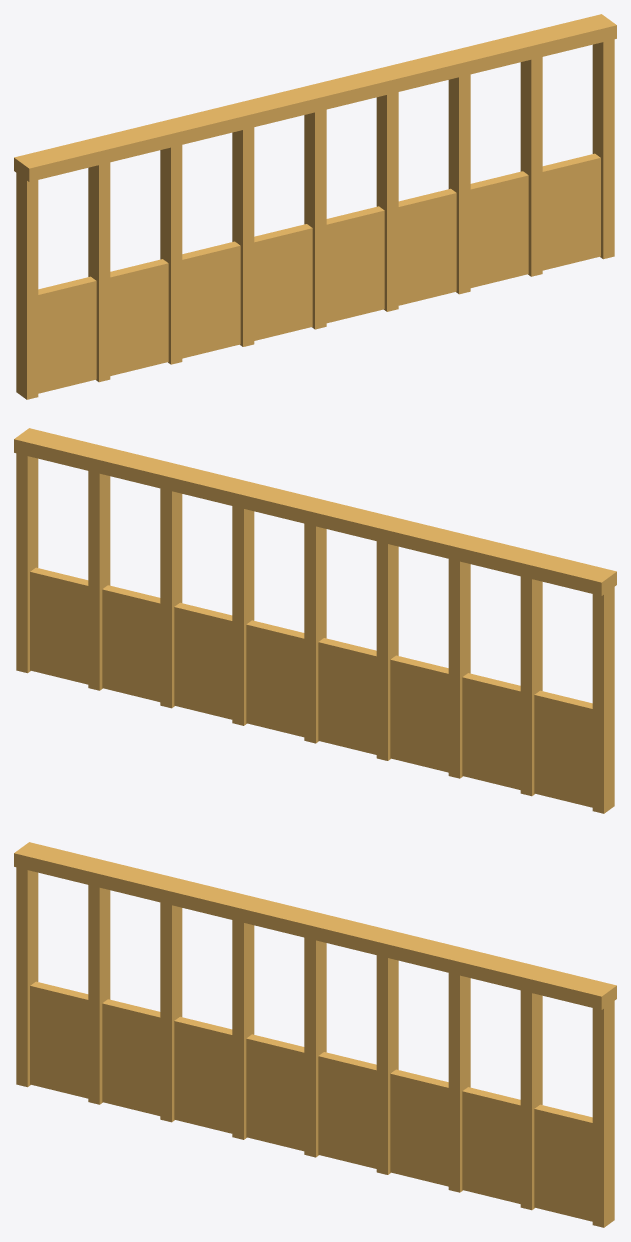
The model's file is Partitions_023.glb.
The picture shows the model from 3 angles, top to bottom: view 1: azimuth 30°, elevation 25°; view 2: azimuth 150°, elevation 25°; view 3: azimuth 330°, elevation 25°; orthographic projection.
Visible parts, largest first — view 1: Partitions_023; view 2: Partitions_023; view 3: Partitions_023.
Boxes of the visible parts, x1,y1,x2,y2 form: Partitions_023: [14, 14, 616, 399]; Partitions_023: [14, 428, 616, 813]; Partitions_023: [14, 842, 616, 1227].
Bounding box in the file's own units: 2 × 0.7575 × 0.0898.
1 material, 1 textured.
